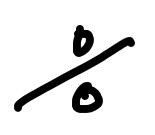div: (11, 25, 135, 115)
